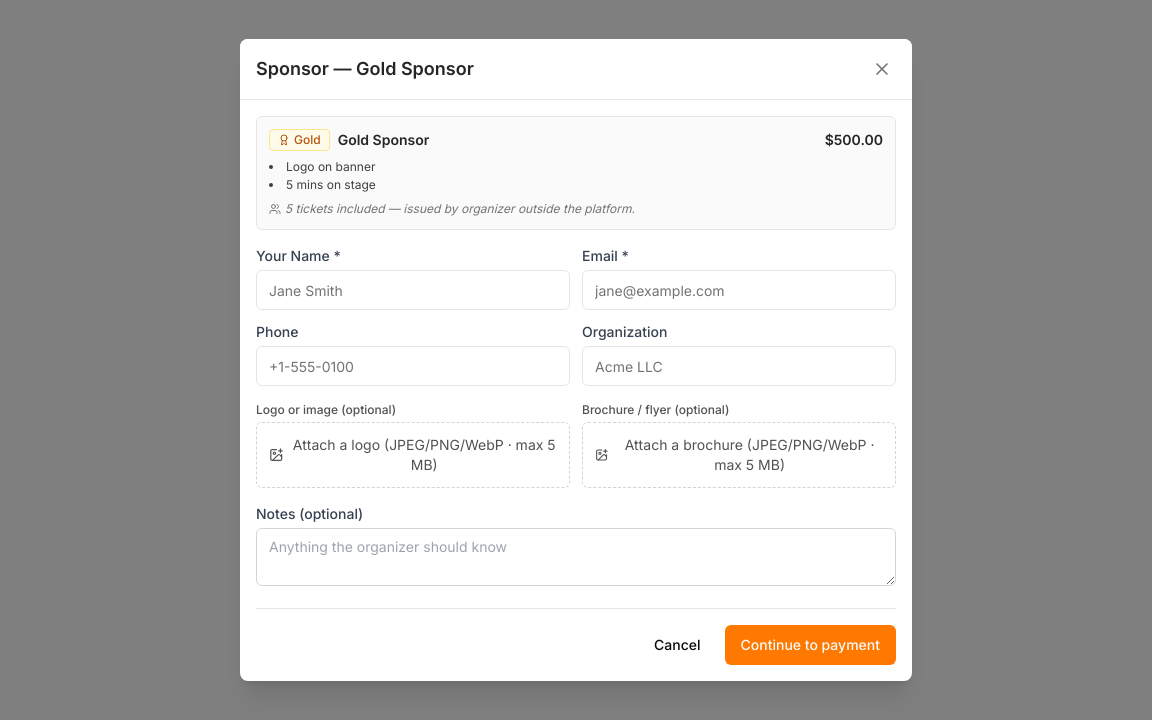
Scenario: PurchaseSponsorshipPackageModal — submit flow › shows an error message when the mutation rejects
Type "Jane" into the field labelled "Your Name *" at (413, 290), box [256,270,570,310]
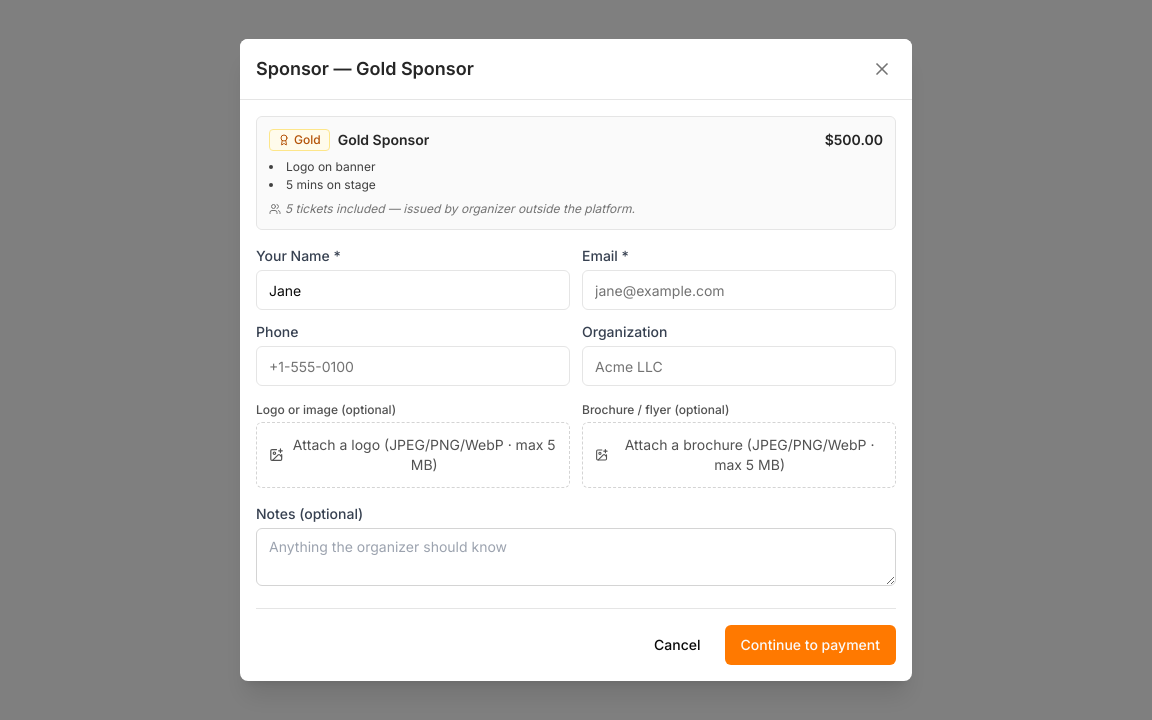
Type "j@e.com" into the field labelled "Email *" at (739, 290), box [582,270,896,310]
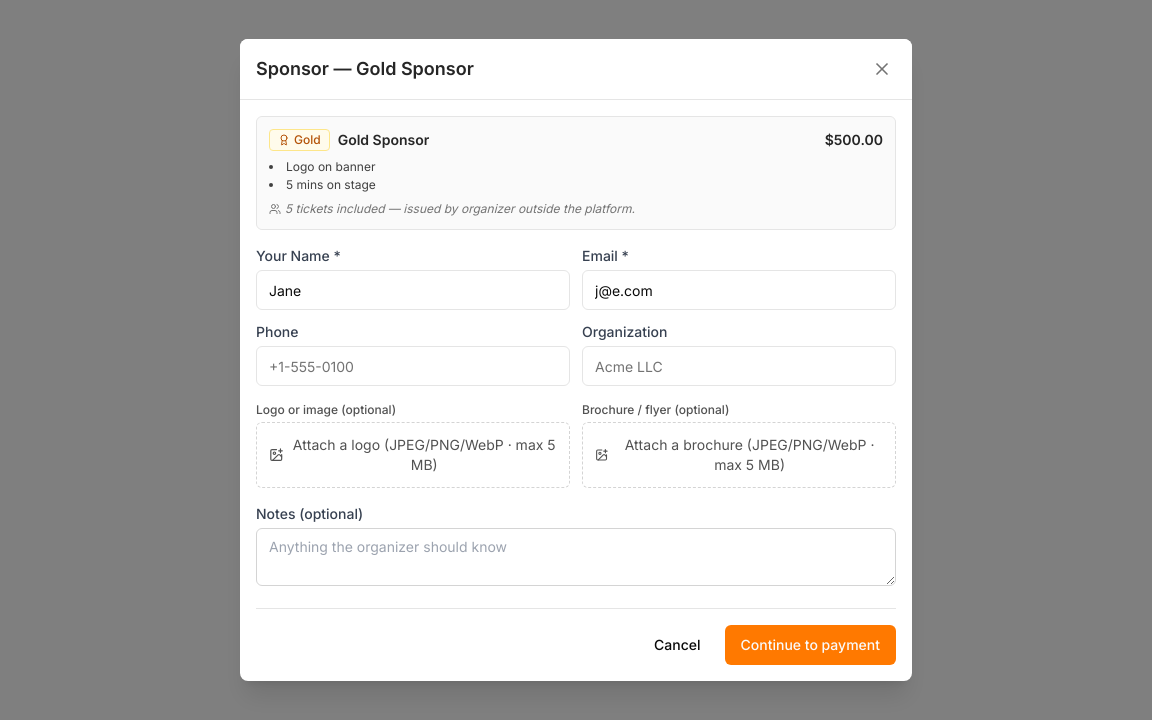
Click the button "Continue to payment" at (810, 645), box [724,625,896,665]
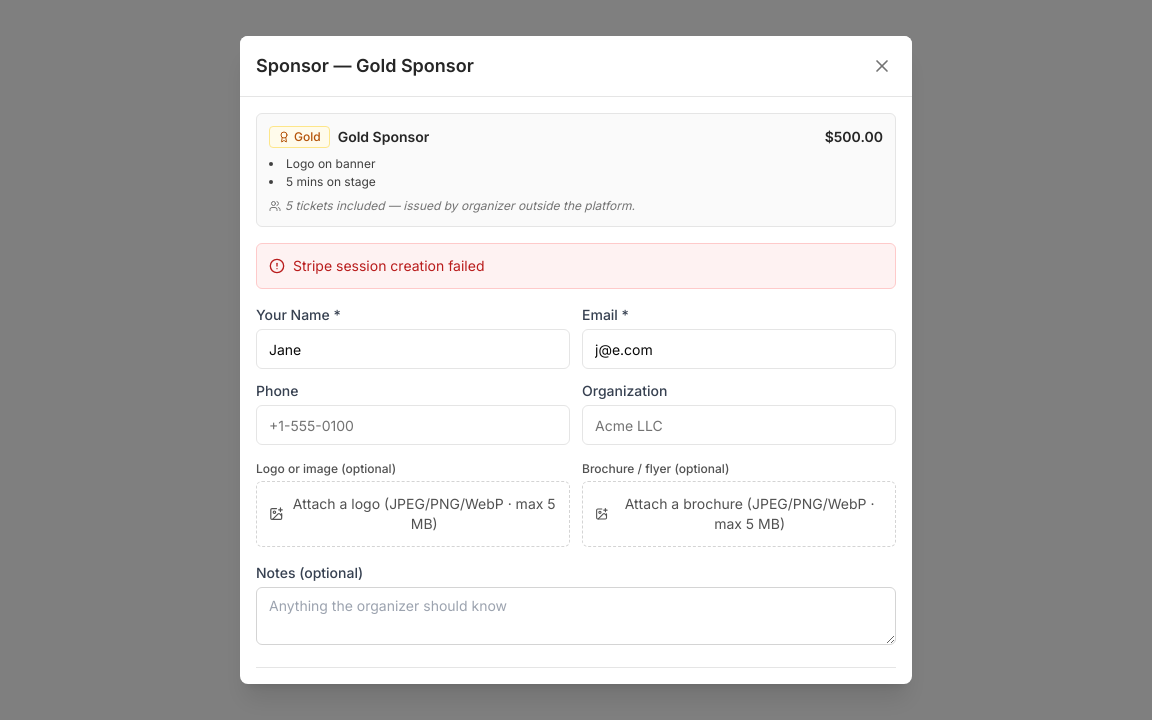
Expected: the text "Stripe session creation failed" is shown, [293,256,484,276]
